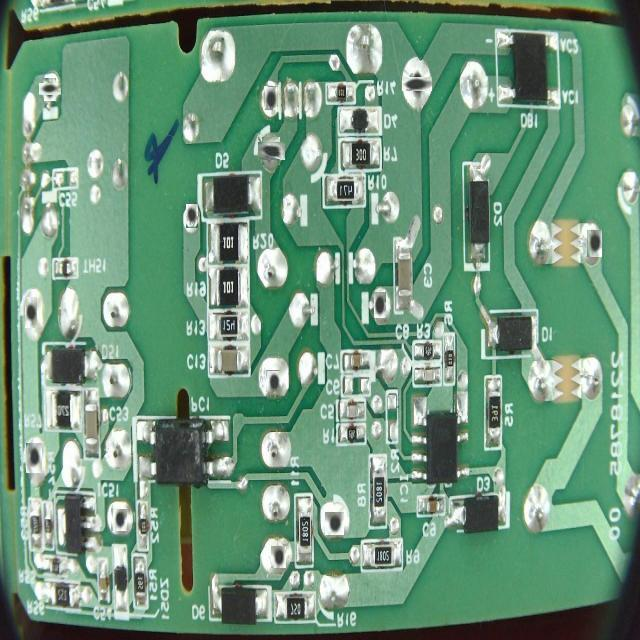damged: (406, 73, 429, 95), (260, 140, 282, 162), (27, 443, 42, 473), (586, 229, 602, 257), (325, 512, 344, 535), (24, 296, 37, 328), (111, 508, 128, 531), (270, 545, 286, 568), (266, 370, 282, 392), (374, 292, 386, 318), (41, 81, 59, 98), (264, 86, 276, 110), (186, 204, 198, 228)
